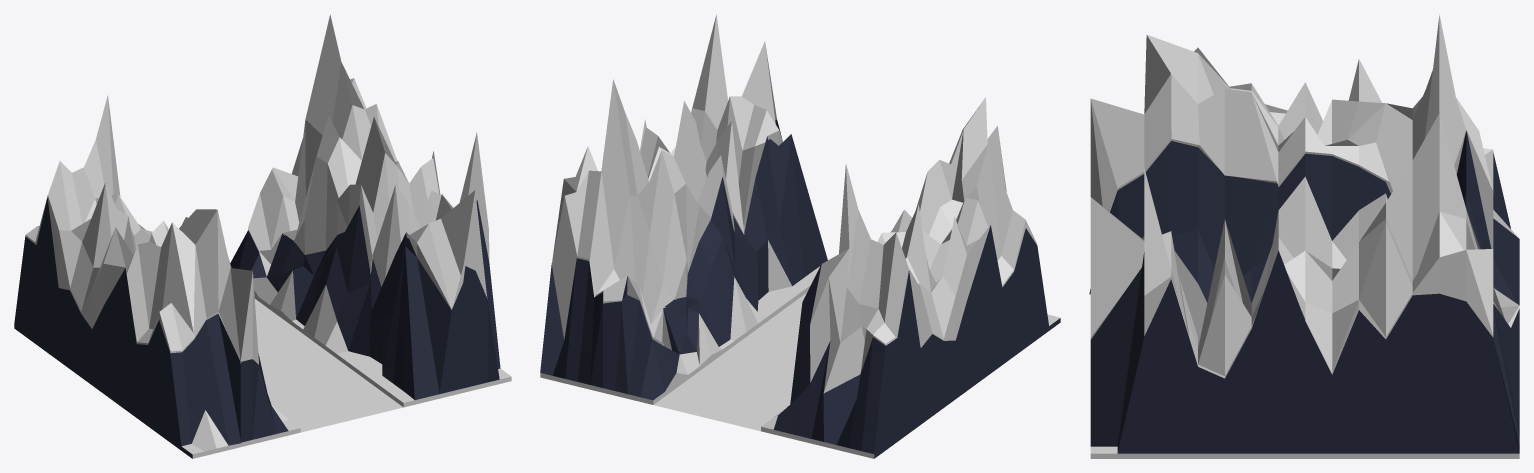
Rendered from SideMountain4.fbx.
The picture shows the model from 3 angles, left to right: view 1: azimuth 30°, elevation 25°; view 2: azimuth 150°, elevation 25°; view 3: azimuth 270°, elevation 25°; orthographic projection. The views are drawn at different scales.
Parts seen in each view (by area): view 1: Landscape.021; view 2: Landscape.021; view 3: Landscape.021.
Part boxes in pixels (bbox=[...]): Landscape.021: bbox=[14, 14, 511, 458]; Landscape.021: bbox=[540, 14, 1060, 458]; Landscape.021: bbox=[1089, 14, 1519, 458].
Bounding box in the file's own units: 18600 × 15032 × 18061.
